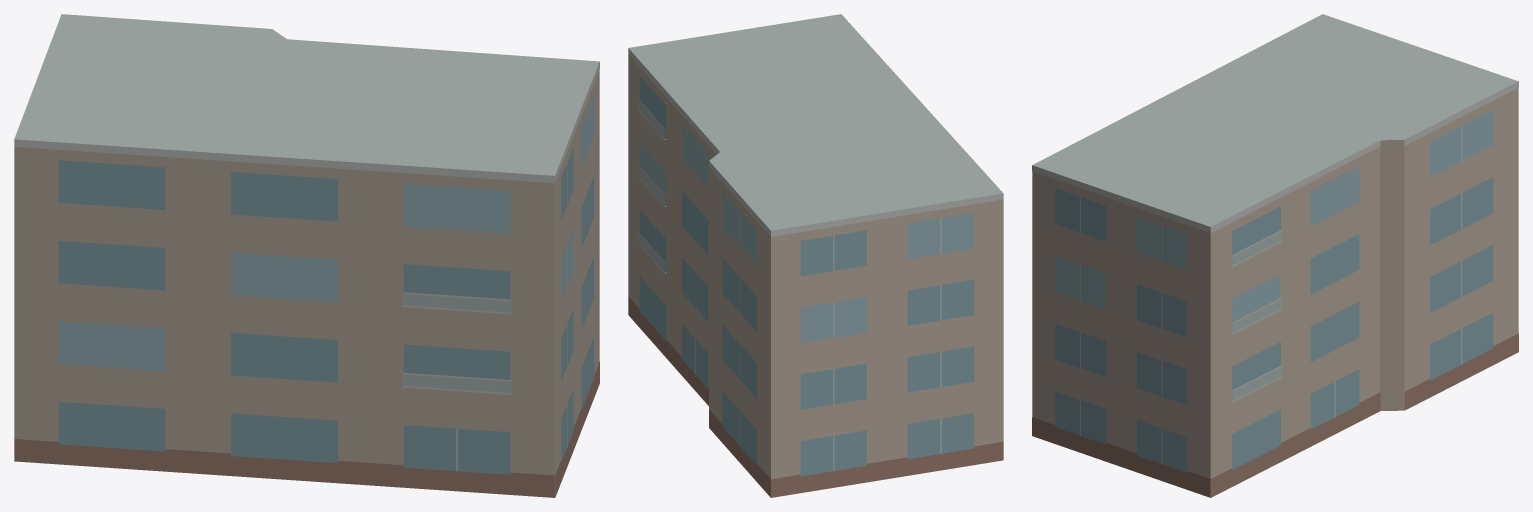
File: survey-upis-32675503.glb
The picture shows the model from 3 angles, left to right: view 1: azimuth 30°, elevation 25°; view 2: azimuth 150°, elevation 25°; view 3: azimuth 270°, elevation 25°; orthographic projection. The views are drawn at different scales.
Visible parts, largest first — view 1: survey-upis-32675503.tmp; view 2: survey-upis-32675503.tmp; view 3: survey-upis-32675503.tmp.
Boxes of the visible parts, x1=… form: survey-upis-32675503.tmp: x1=14, y1=14, x2=599, y2=497; survey-upis-32675503.tmp: x1=628, y1=14, x2=1003, y2=497; survey-upis-32675503.tmp: x1=1032, y1=14, x2=1518, y2=497.
Size of the model in its own units: 17.86 by 10.58 by 17.23.
